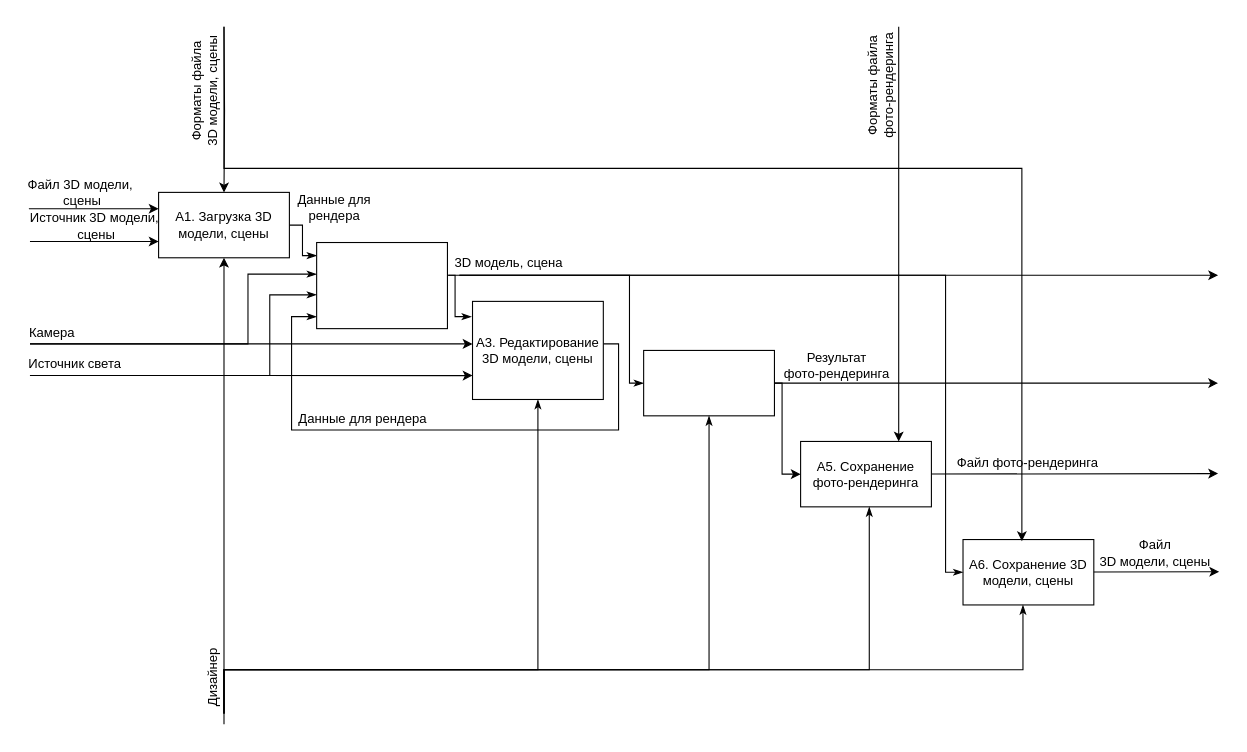
The diagram is 1247 pixels wide and 752 high, and some of its shapes have lost their labels. The shapes that lost their labels are listed below. From the top down, each one's centre as x and y in pixels, then its label:
[381,285]: A2. Просмотр 3D модели, сцены
[708,382]: A4. Запуск фото- рендеринг
